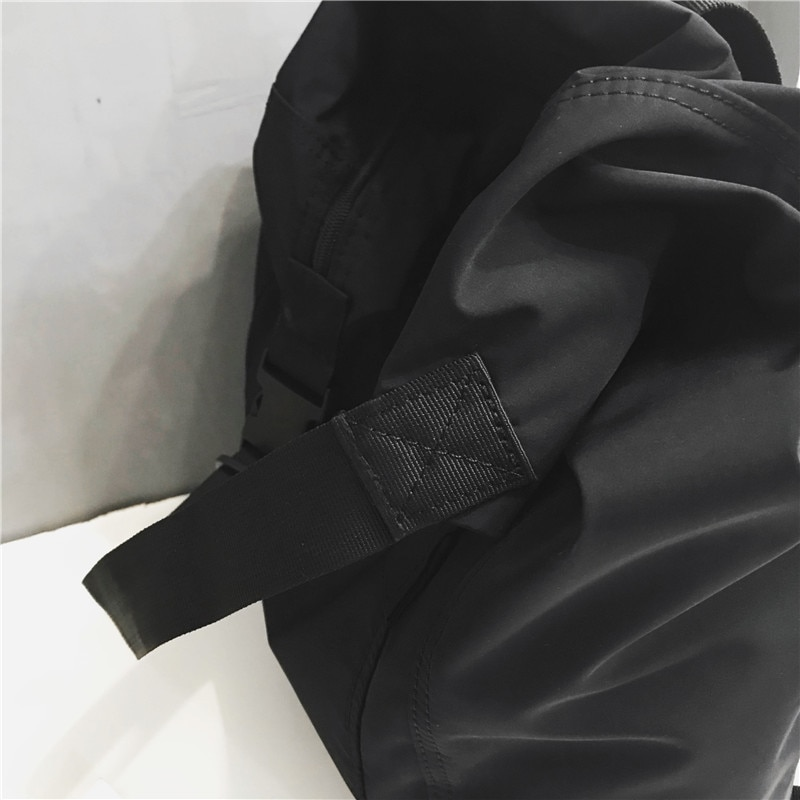Men's Backpacks: (82, 1, 800, 800)
